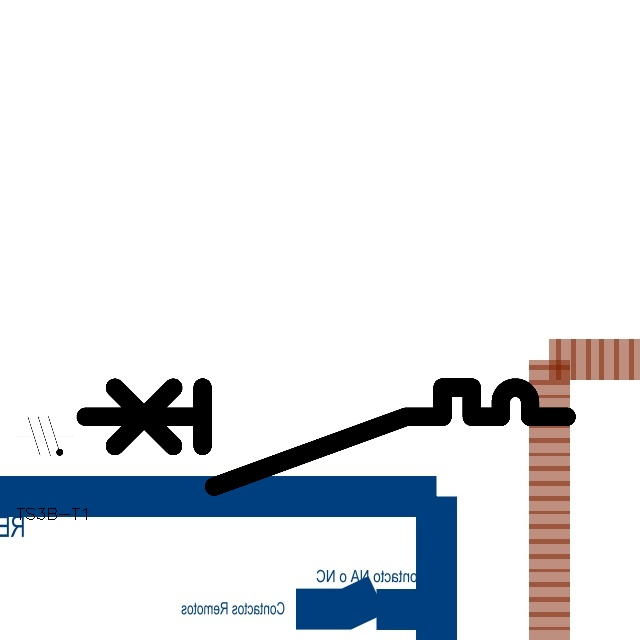interruptor_termomagnetico: (73, 375, 579, 499)
